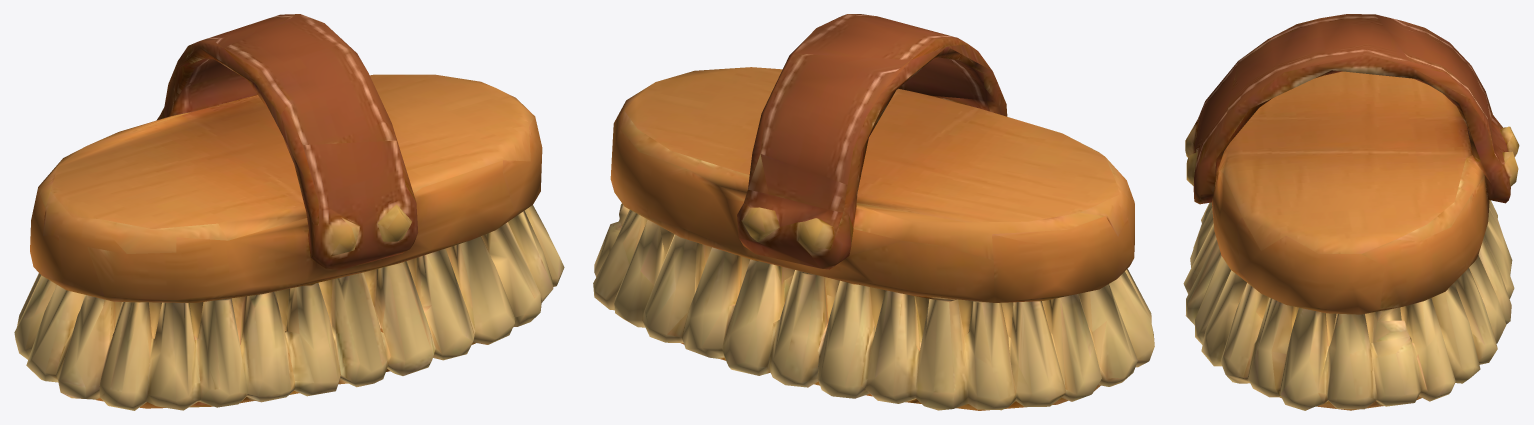
3 views of the same model, side by side, from view 1: azimuth 30°, elevation 25°; view 2: azimuth 150°, elevation 25°; view 3: azimuth 270°, elevation 25° (orthographic). The views are drawn at different scales.
Visible parts, largest first — view 1: grooming-brush; view 2: grooming-brush; view 3: grooming-brush.
Part boxes in pixels (x1,y1,x2,y2): grooming-brush: (14, 14, 564, 410); grooming-brush: (593, 14, 1154, 410); grooming-brush: (1183, 14, 1519, 410).
Bounding box in the file's own units: 0.2204 × 0.1205 × 0.1335.
Materials: 1 (1 with a texture image).
